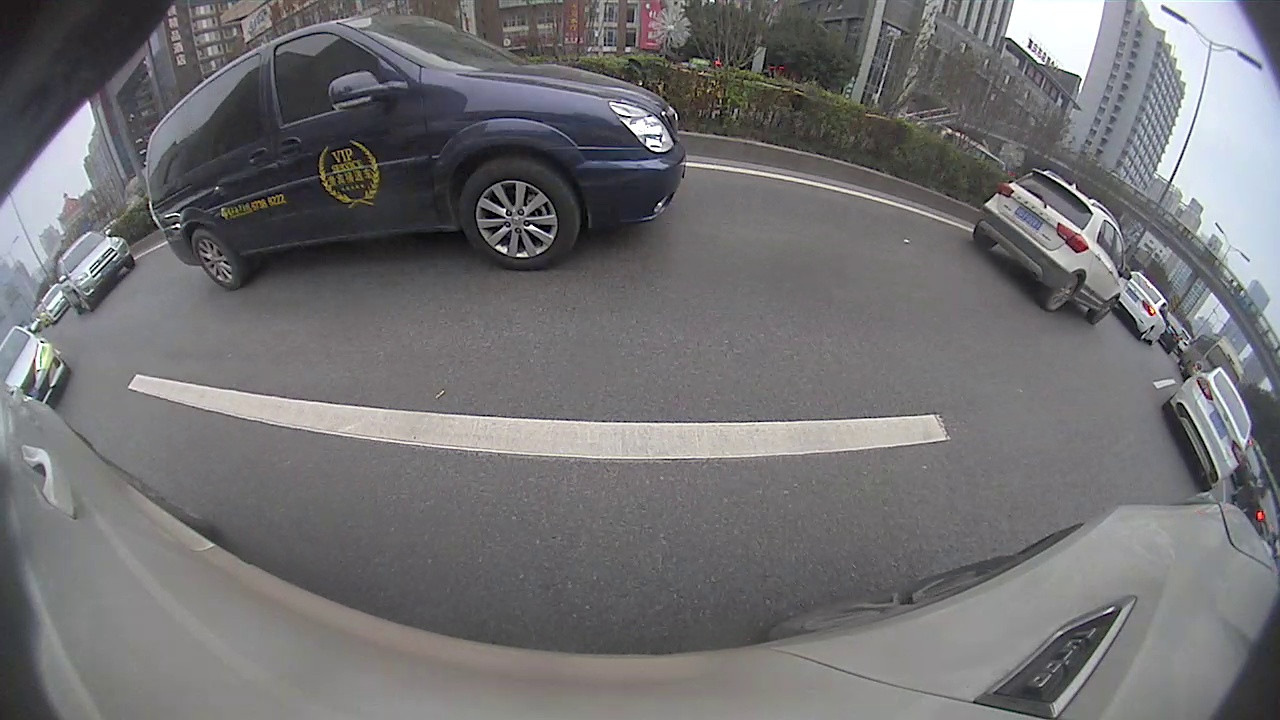car: (1, 257, 177, 451), (1060, 243, 1179, 316), (914, 188, 1032, 254), (1188, 318, 1279, 397), (682, 152, 752, 196), (805, 169, 861, 202)
front: (1200, 339, 1220, 363), (1070, 256, 1088, 277), (918, 208, 932, 225)
rear: (120, 313, 168, 358), (1130, 285, 1150, 311), (964, 224, 981, 242)
